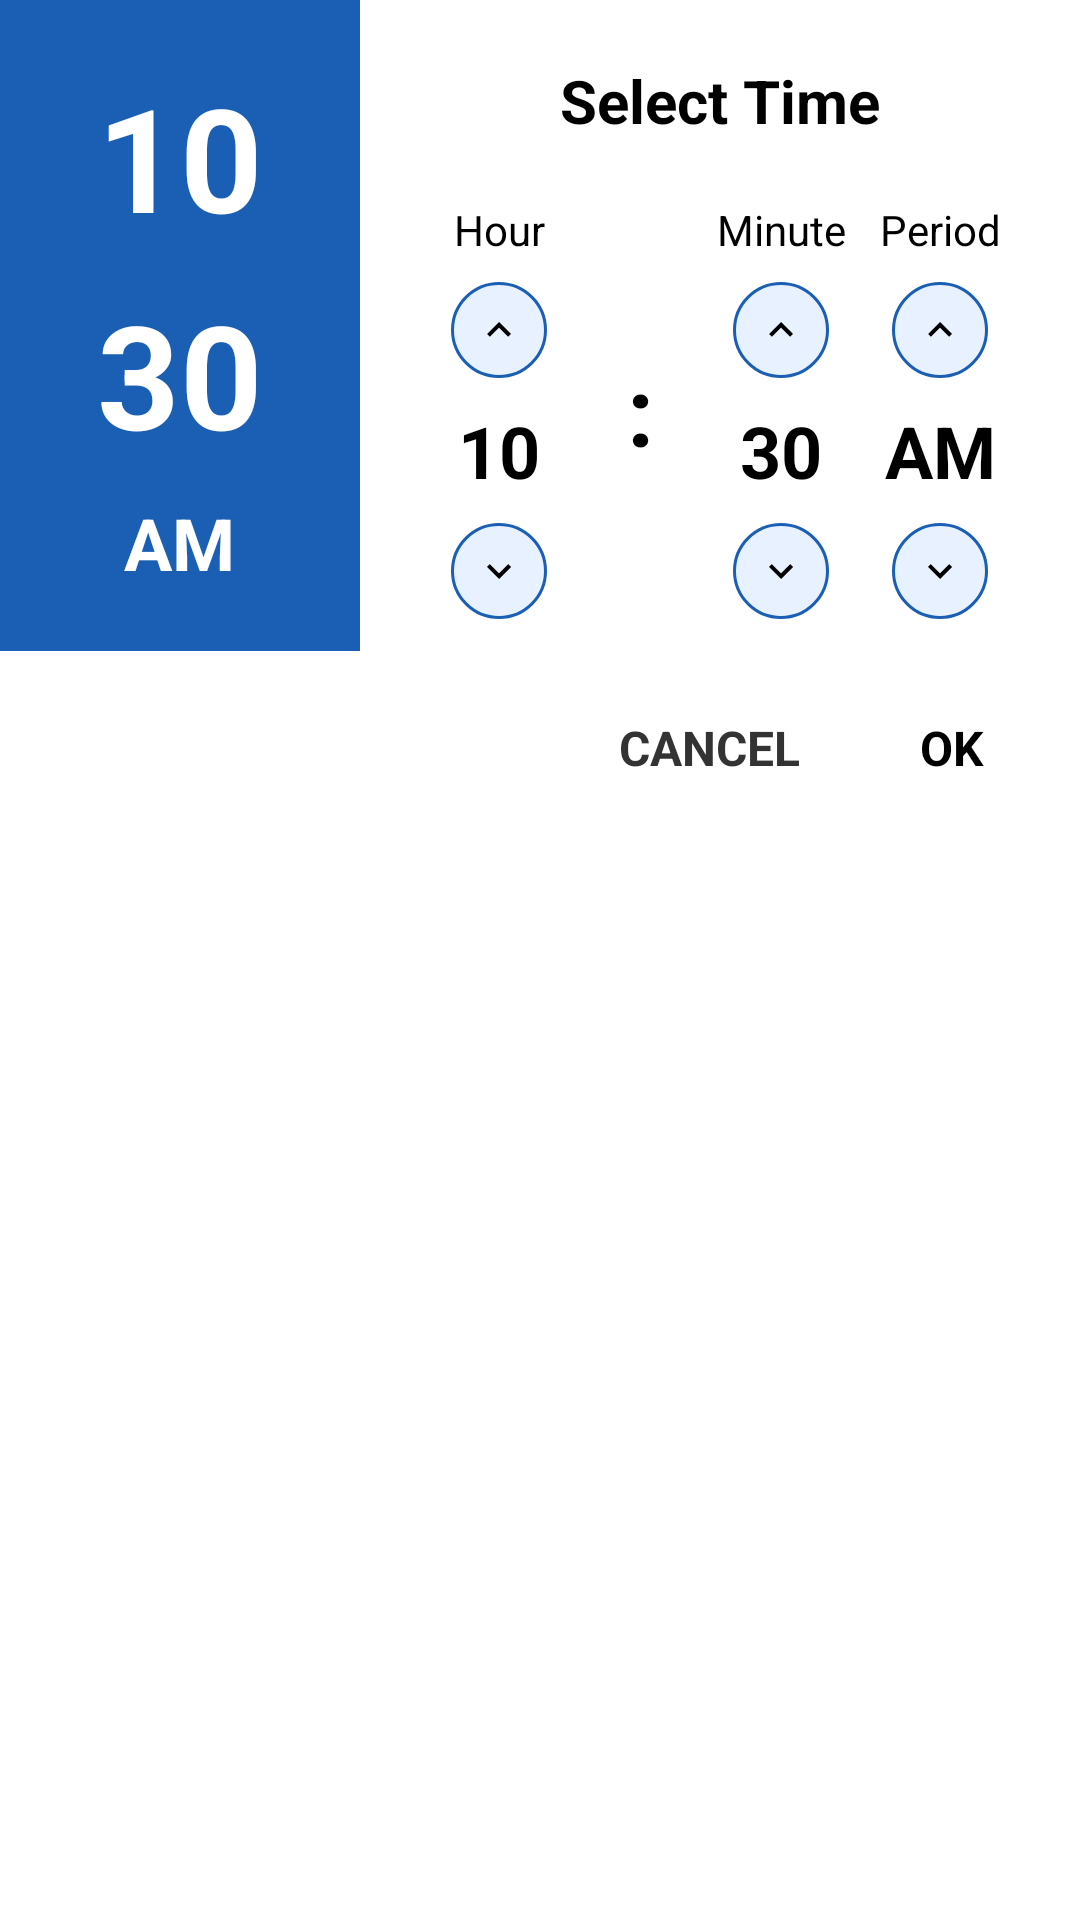

Locate icon controls on the screen. Image size 1080x1920, boxes as {"left": x1, "top": y1, "right": x2, "bottom": y2}.
Decrease hour: {"left": 451, "top": 523, "right": 547, "bottom": 619}
Decrease minute: {"left": 733, "top": 523, "right": 829, "bottom": 619}
